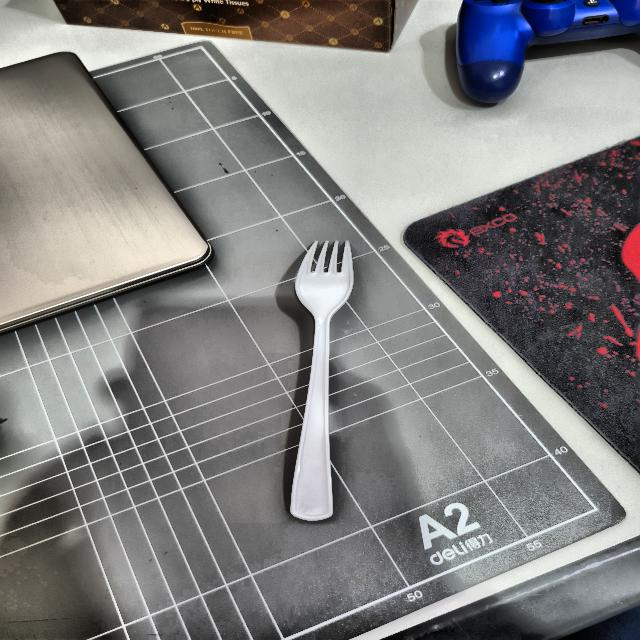plastic utensil: (286, 237, 361, 521)
